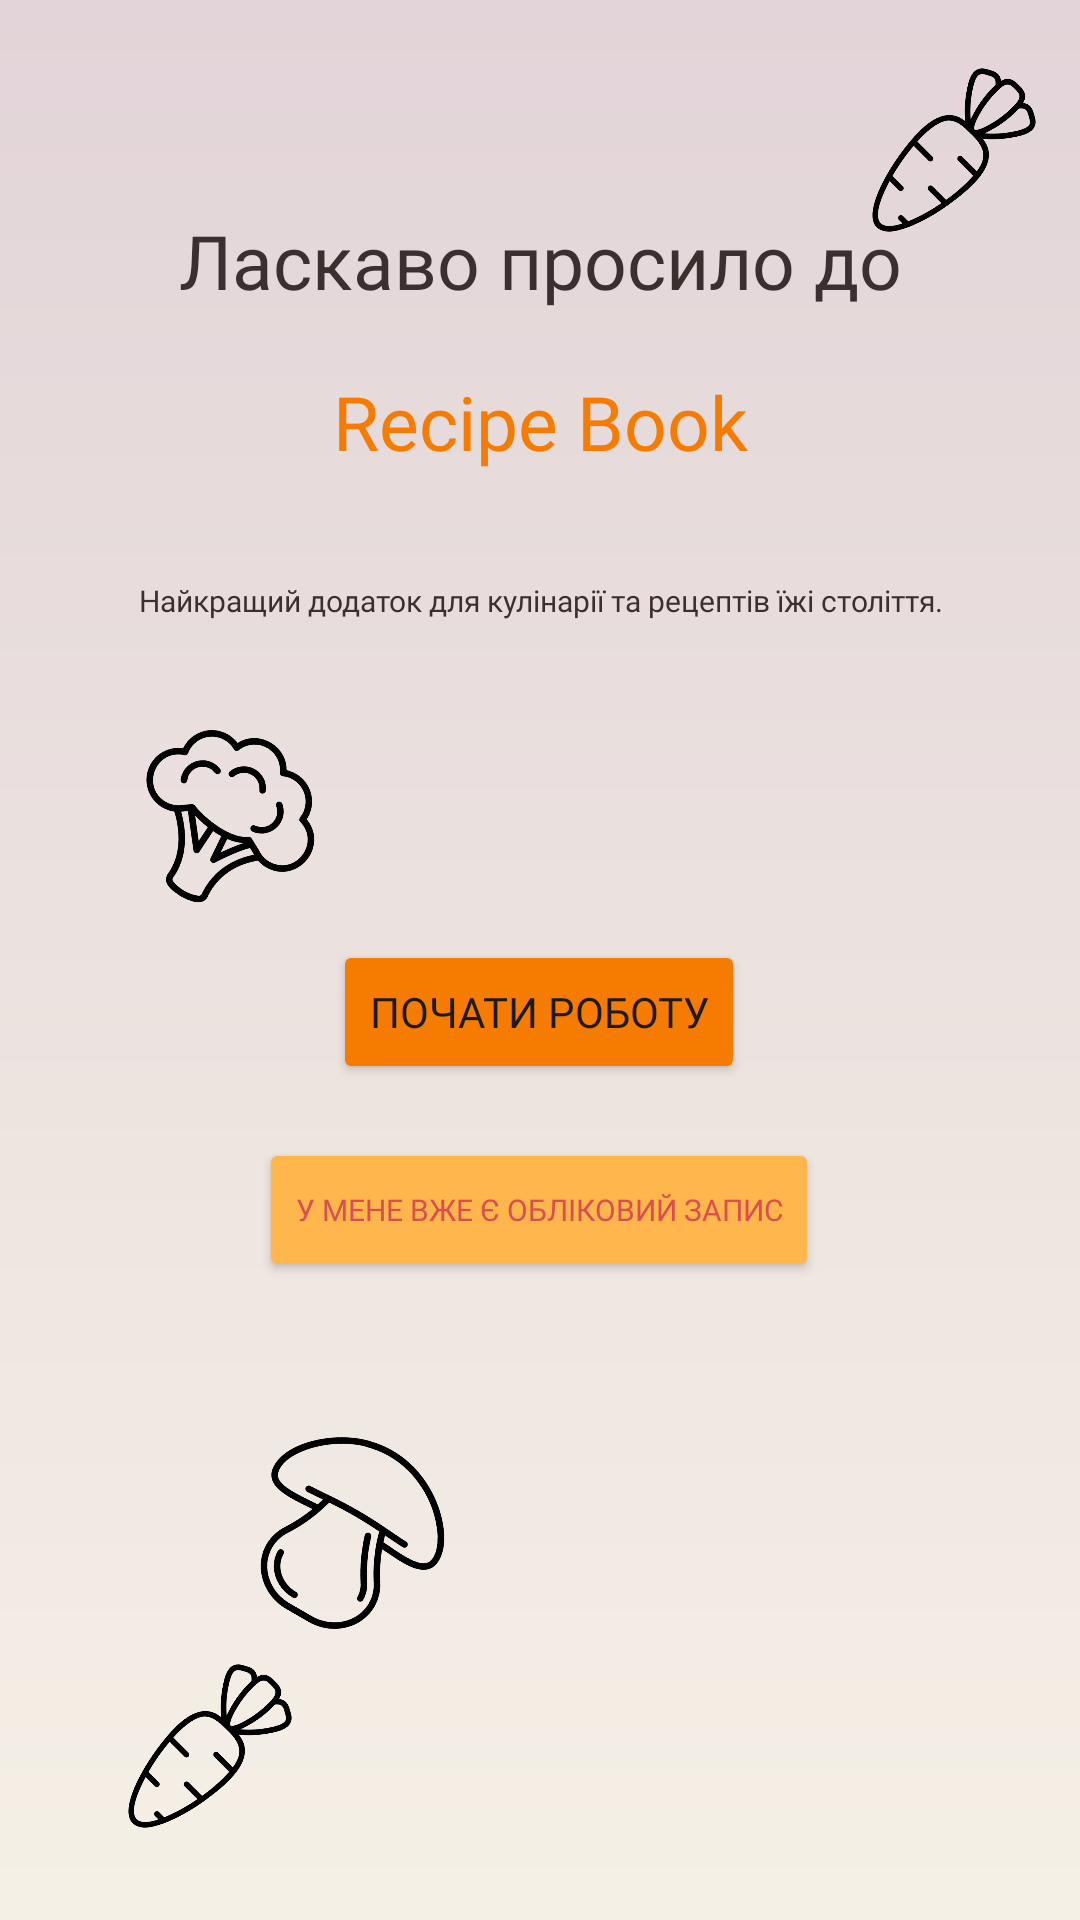

Named icons in this screenshot (1080×1920) and their bounding boxes, [left=x1, top=y1, right=x2, bottom=y2]:
corrots: [left=872, top=68, right=1036, bottom=232], [left=128, top=1664, right=292, bottom=1828]
